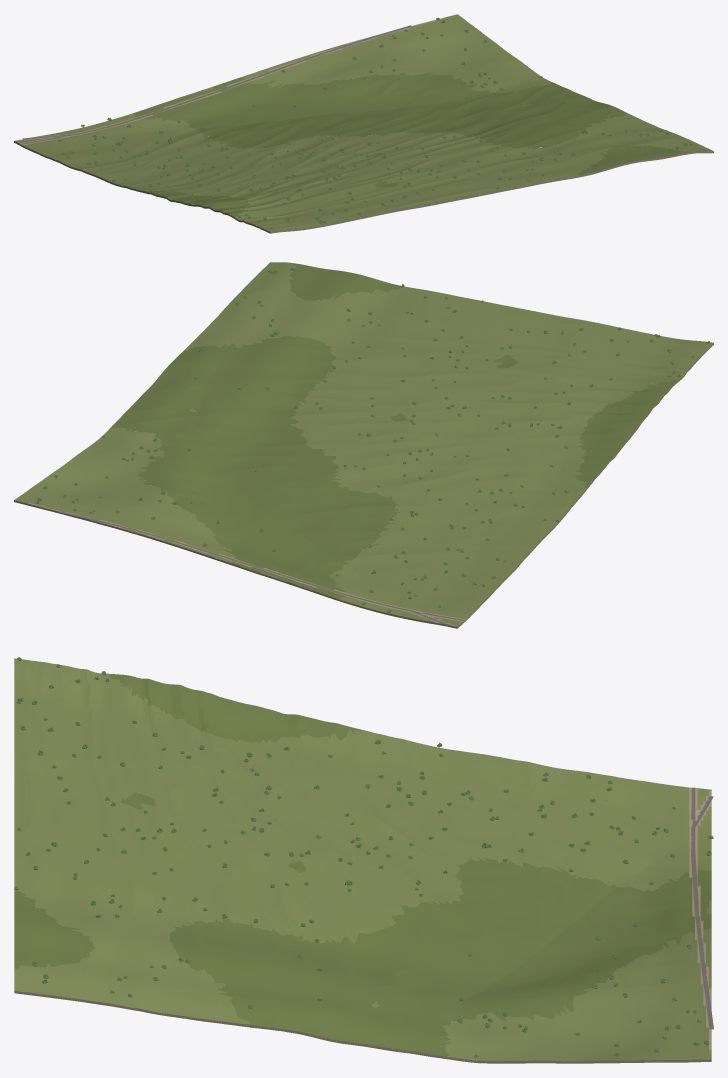
File: parca_+8_-3-yakin.glb
3 renders of one model, top to bottom at view 1: azimuth 30°, elevation 25°; view 2: azimuth 150°, elevation 25°; view 3: azimuth 270°, elevation 25°, orthographic. The views are drawn at different scales.
Parts seen in each view (by area): view 1: parca_+8_-3_arazi, parca_+8_-3_bitkiler, parca_+8_-3_yollar; view 2: parca_+8_-3_arazi, parca_+8_-3_bitkiler, parca_+8_-3_yollar; view 3: parca_+8_-3_arazi, parca_+8_-3_bitkiler, parca_+8_-3_yollar.
Part boxes in pixels (box(x1,y1,x2,y2)): parca_+8_-3_arazi: box(14, 14, 713, 233); parca_+8_-3_bitkiler: box(58, 17, 693, 229); parca_+8_-3_yollar: box(20, 25, 412, 144); parca_+8_-3_arazi: box(14, 262, 713, 628); parca_+8_-3_bitkiler: box(35, 268, 710, 612); parca_+8_-3_yollar: box(59, 511, 464, 625); parca_+8_-3_arazi: box(14, 658, 711, 1063); parca_+8_-3_bitkiler: box(14, 657, 713, 1057); parca_+8_-3_yollar: box(691, 787, 713, 1029).
Size of the model in its own units: 1004 by 225 by 1004.
